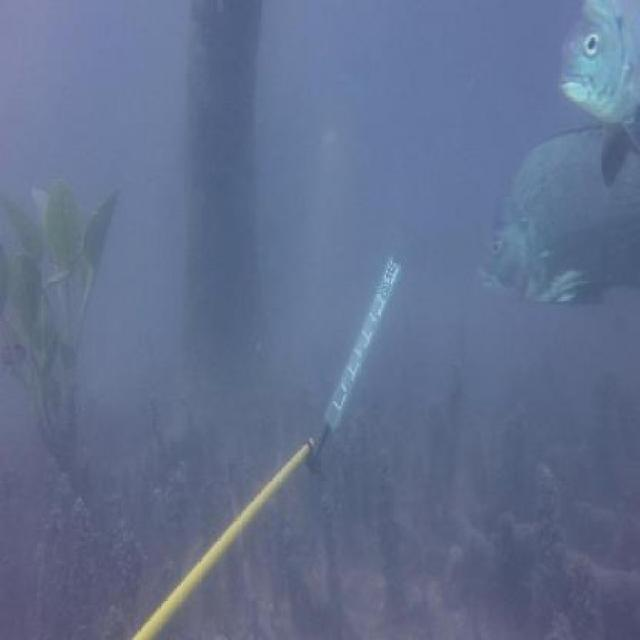acanthopagrus_palmaris: (475, 120, 640, 308), (554, 0, 640, 191)
